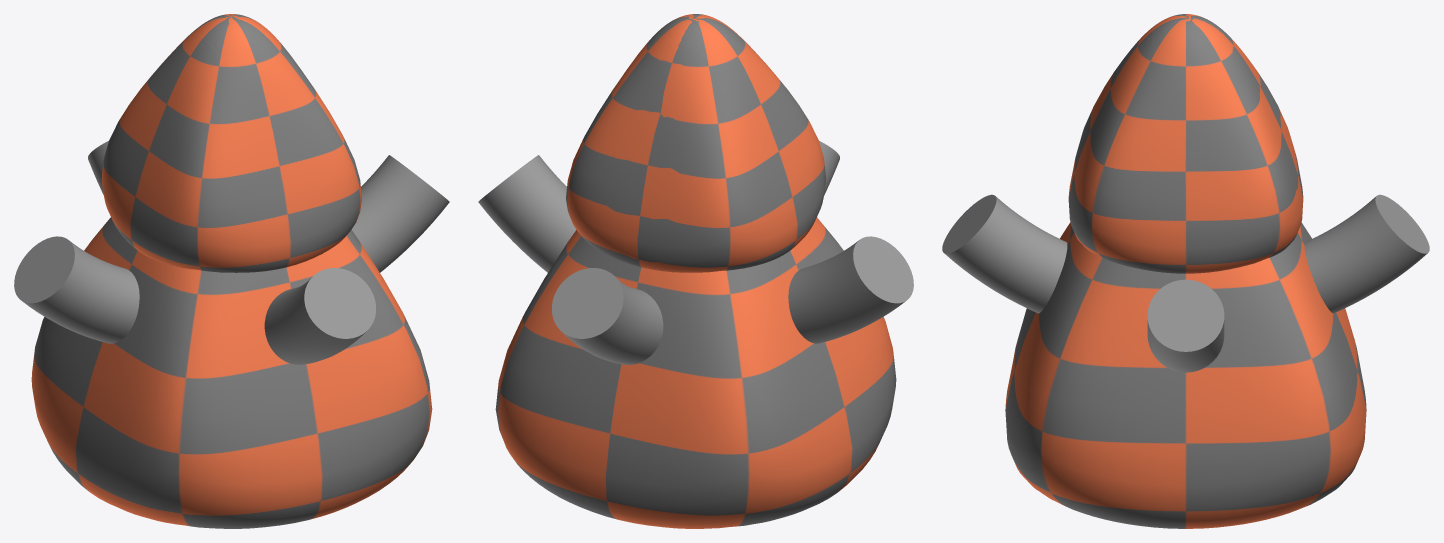
Rendered from Body(Pyramidal)+Colour(More_Orange)+Pattern(Checkered)+Arm_Angle(Bent_Up)+Hat(Pyramidal).fbx.
3 views of the same model, side by side, from view 1: azimuth 30°, elevation 25°; view 2: azimuth 150°, elevation 25°; view 3: azimuth 270°, elevation 25° (orthographic).
Visible parts, largest first — view 1: Body(Pyramidal)+Colour(More_Orange)+Pattern(Checkered)+Arm_A (×5); view 2: Body(Pyramidal)+Colour(More_Orange)+Pattern(Checkered)+Arm_A (×5); view 3: Body(Pyramidal)+Colour(More_Orange)+Pattern(Checkered)+Arm_A (×5).
Part boxes in pixels (x1=…): Body(Pyramidal)+Colour(More_Orange)+Pattern(Checkered)+Arm_A (×5): x1=14, y1=14, x2=449, y2=528; Body(Pyramidal)+Colour(More_Orange)+Pattern(Checkered)+Arm_A (×5): x1=478, y1=14, x2=913, y2=528; Body(Pyramidal)+Colour(More_Orange)+Pattern(Checkered)+Arm_A (×5): x1=942, y1=14, x2=1429, y2=528.
Bounding box in the file's own units: 50.67 × 53 × 50.67.
2 materials, 1 textured.
